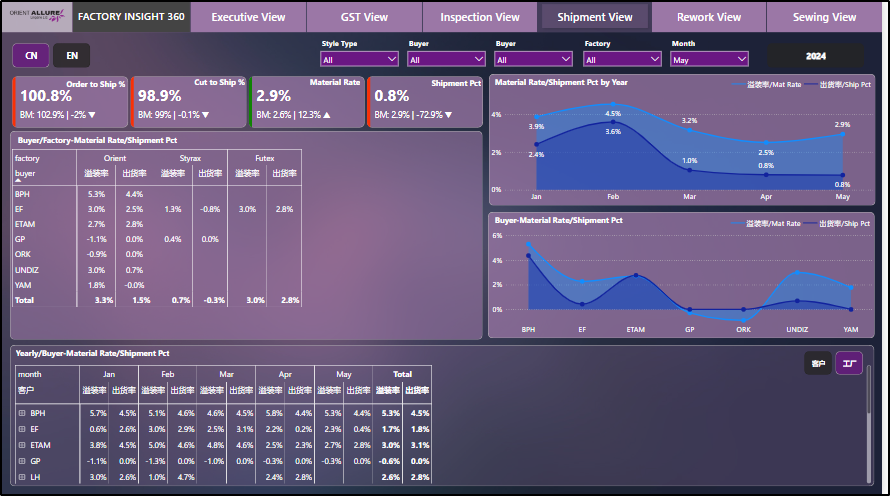

The dashboard page shown, as its layout file describes it:
{"tool":"powerbi","page":{"name":"Shipment View","canvas":[1920,1080],"ordinal":4},"visuals":[{"type":"shape","title":"Navigation Panel Background Shape","box":[0,0,1920,70.6],"z":0,"group":"g7"},{"type":"slicer","fields":{"Values":["dim_date.month"]},"box":[1449.3,79,190.2,74],"z":0,"group":"g8"},{"type":"cardVisual","fields":{"Data":["Key Measures.订单出运率","Key Measures.裁剪出运率","Key Measures.material_rate","Key Measures.overshipment_pct"]},"box":[17,162.3,1039.6,122.6],"z":0,"group":"g2"},{"type":"shape","title":"back","box":[1061.7,163.4,843.3,287.1],"z":0,"group":"g5"},{"type":"actionButton","title":"title","box":[131.8,165.3,140.3,35.1],"z":0,"group":"g3"},{"type":"shape","title":"back","box":[17,286.6,1031,455.3],"z":0,"group":"g4"},{"type":"shape","title":"back","box":[1060.9,463.5,843.6,275.4],"z":0,"group":"g6"},{"type":"group","id":"g1","title":"monthly ship_pct,material","box":[17,752.6,1885.7,308.3],"z":0},{"type":"shape","title":"back","box":[17,752.6,1885.7,308.3],"z":0,"group":"g1"},{"type":"shape","title":"logo back","box":[0,2.8,153.1,68.1],"z":1000,"group":"g7"},{"type":"slicer","fields":{"Values":["dim_style_type.style_type"]},"box":[684.9,79,190.2,74],"z":1000,"group":"g8"},{"type":"group","id":"g2","title":"KPI","box":[17,161.6,1039.6,123.3],"z":1000},{"type":"group","id":"g3","title":"title","box":[131.8,161.6,915.7,38.8],"z":1000,"group":"g2"},{"type":"actionButton","title":"title","box":[410.6,161.6,121.8,35.1],"z":1000,"group":"g3"},{"type":"areaChart","fields":{"Category":["dim_date.month.Variation.Date Hierarchy.Month"],"Y":["Key Measures.material_rate","Key Measures.overshipment_pct"]},"box":[1061.5,162.5,843.7,287.8],"z":1000,"group":"g5"},{"type":"pivotTable","fields":{"Rows":["dim_buyer.buyer"],"Columns":["dim_factory.factory"],"Values":["Key Measures.material_rate","Key Measures.overshipment_pct"]},"box":[17.8,321.1,1034.5,418.8],"z":1000,"group":"g4"},{"type":"areaChart","fields":{"Category":["dim_buyer.buyer"],"Y":["Key Measures.material_rate","Key Measures.overshipment_pct"]},"box":[1065.4,466.8,839.8,274.3],"z":1000,"group":"g6"},{"type":"pivotTable","fields":{"Rows":["dim_buyer.buyer","dim_buyer.buyer","dim_factory.factory"],"Values":["Key Measures.material_rate","Key Measures.overshipment_pct"],"Columns":["dim_date.month"]},"box":[24.2,792.1,1877.2,268.1],"z":1000,"group":"g1"},{"type":"actionButton","title":"Executive View Icon","box":[412.4,0,250.9,70.2],"z":2000,"group":"g7"},{"type":"slicer","fields":{"Values":["dim_buyer.buyer"]},"box":[875.1,79,190.2,74],"z":2000,"group":"g8"},{"type":"actionButton","title":"title","box":[661.6,161.6,121.8,35.1],"z":2000,"group":"g3"},{"type":"actionButton","title":"title","box":[1070.7,162.5,310.2,35.1],"z":2000,"group":"g5"},{"type":"group","id":"g4","title":"buyer factory overshipment,material","box":[17,286.6,1035.4,455.3],"z":2000},{"type":"actionButton","title":"title","box":[1072,463.5,310.2,35.1],"z":2000,"group":"g6"},{"type":"actionButton","title":"title","box":[26.2,752.6,378.5,35.1],"z":2000,"group":"g1"},{"type":"image","title":"logo","box":[4.3,0,143.7,68.6],"z":3000,"group":"g7"},{"type":"slicer","fields":{"Values":["dim_factory.factory"]},"box":[1259.1,79,190.2,74],"z":3000,"group":"g8"},{"type":"group","id":"g5","title":"yearly overshipment chart","box":[1061.5,162.5,843.7,288],"z":3000},{"type":"actionButton","title":"title","box":[925.6,163.4,121.8,35.1],"z":3000,"group":"g3"},{"type":"actionButton","title":"title","box":[29.9,288.4,380.3,35.1],"z":3000,"group":"g4"},{"type":"advancedSlicerVisual","fields":{"Values":["Parameter_01.Parameter_01"]},"box":[1745.4,762,138.2,61.7],"z":3000,"group":"g1"},{"type":"actionButton","title":"Overshipment View","box":[1169.3,0,248.7,70.2],"z":4000,"group":"g7"},{"type":"slicer","fields":{"Values":["dim_unit.unit"]},"box":[1065.3,79,190.2,74],"z":4000,"group":"g8"},{"type":"group","id":"g6","title":"overshipment rate as buyer chart","box":[1060.9,463.5,844.3,277.5],"z":4000},{"type":"group","id":"g7","title":"Navigation Panel","box":[0,0,1920,70.9],"z":5000},{"type":"actionButton","title":"Inspection View Icon","box":[918.4,0,248.7,70.2],"z":5000,"group":"g7"},{"type":"advancedSlicerVisual","title":"Slicer year","fields":{"Values":["dim_date.year"]},"box":[1665.2,89,221.7,63],"z":5000,"group":"g8"},{"type":"actionButton","title":"Sewing View Icon","box":[1668.9,0,250.9,70.2],"z":6000,"group":"g7"},{"type":"group","id":"g8","title":"slicer panel","box":[684.9,79,1202,74],"z":6000},{"type":"actionButton","title":"GST View Icon","box":[665.4,0,250.9,70.2],"z":7000,"group":"g7"},{"type":"advancedSlicerVisual","title":"Slicer year","fields":{"Values":["#lan-slicer.Lan"]},"box":[18.1,89,181.1,63],"z":7000},{"type":"shape","title":"Orient Insight 360 Button","box":[155.2,0,255,70.2],"z":8000,"group":"g7"},{"type":"actionButton","title":"RR View icon","box":[1418,0,248.7,70.2],"z":9000,"group":"g7"}]}

Visuals, with their boxes in screenshot pixels (x1, y1, x2, y2), scaled from the page's 1920x1080 canvas onto the 890x496 screenshot:
"Navigation Panel Background Shape" shape: bbox=[0, 0, 889, 32]
slicer - dim_date.month: bbox=[672, 36, 760, 70]
cardVisual - Key Measures.订单出运率 x Key Measures.裁剪出运率: bbox=[8, 75, 490, 131]
"back" shape: bbox=[492, 75, 883, 207]
"title" actionButton: bbox=[61, 76, 126, 92]
"back" shape: bbox=[8, 132, 486, 341]
"back" shape: bbox=[492, 213, 883, 339]
"monthly ship_pct,material" group: bbox=[8, 346, 882, 487]
"back" shape: bbox=[8, 346, 882, 487]
"logo back" shape: bbox=[0, 1, 71, 33]
slicer - dim_style_type.style_type: bbox=[317, 36, 406, 70]
"KPI" group: bbox=[8, 74, 490, 131]
"title" group: bbox=[61, 74, 486, 92]
"title" actionButton: bbox=[190, 74, 247, 90]
areaChart - dim_date.month.Variation.Date Hierarchy.Month x Key Measures.material_rate: bbox=[492, 75, 883, 207]
pivotTable - dim_buyer.buyer x dim_factory.factory: bbox=[8, 147, 488, 340]
areaChart - dim_buyer.buyer x Key Measures.material_rate: bbox=[494, 214, 883, 340]
pivotTable - dim_buyer.buyer x dim_buyer.buyer: bbox=[11, 364, 881, 487]
"Executive View Icon" actionButton: bbox=[191, 0, 307, 32]
slicer - dim_buyer.buyer: bbox=[406, 36, 494, 70]
"title" actionButton: bbox=[307, 74, 363, 90]
"title" actionButton: bbox=[496, 75, 640, 91]
"buyer factory overshipment,material" group: bbox=[8, 132, 488, 341]
"title" actionButton: bbox=[497, 213, 641, 229]
"title" actionButton: bbox=[12, 346, 188, 362]
"logo" image: bbox=[2, 0, 69, 32]
slicer - dim_factory.factory: bbox=[584, 36, 672, 70]
"yearly overshipment chart" group: bbox=[492, 75, 883, 207]
"title" actionButton: bbox=[429, 75, 486, 91]
"title" actionButton: bbox=[14, 132, 190, 149]
advancedSlicerVisual - Parameter_01.Parameter_01: bbox=[809, 350, 873, 378]
"Overshipment View" actionButton: bbox=[542, 0, 657, 32]
slicer - dim_unit.unit: bbox=[494, 36, 582, 70]
"overshipment rate as buyer chart" group: bbox=[492, 213, 883, 340]
"Navigation Panel" group: bbox=[0, 0, 889, 33]
"Inspection View Icon" actionButton: bbox=[426, 0, 541, 32]
"Slicer year" advancedSlicerVisual: bbox=[772, 41, 875, 70]
"Sewing View Icon" actionButton: bbox=[774, 0, 889, 32]
"slicer panel" group: bbox=[317, 36, 875, 70]
"GST View Icon" actionButton: bbox=[308, 0, 425, 32]
"Slicer year" advancedSlicerVisual: bbox=[8, 41, 92, 70]
"Orient Insight 360 Button" shape: bbox=[72, 0, 190, 32]
"RR View icon" actionButton: bbox=[657, 0, 773, 32]
